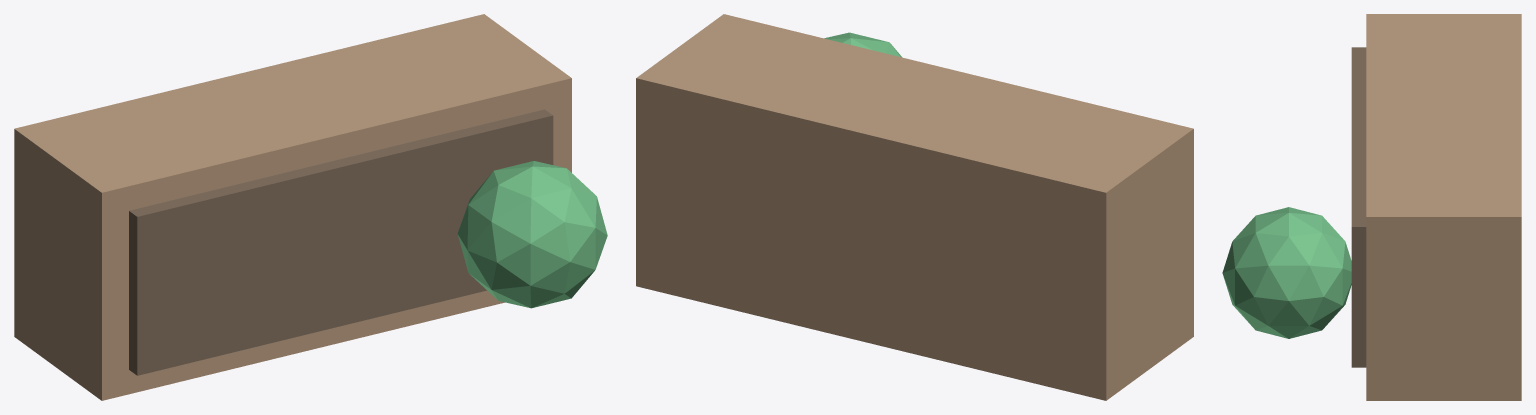
Rendered from env_street_planter.glb.
The picture shows the model from 3 angles, left to right: view 1: azimuth 30°, elevation 25°; view 2: azimuth 150°, elevation 25°; view 3: azimuth 270°, elevation 25°; orthographic projection. The views are drawn at different scales.
Visible parts, largest first — view 1: planter_box, soil, plant; view 2: planter_box, plant; view 3: planter_box, plant, soil.
Part boxes in pixels (x1,y1,x2,y2): planter_box: (14,14,571,400); soil: (129,109,553,375); plant: (457,161,607,308); planter_box: (636,14,1193,400); plant: (824,32,902,57); planter_box: (1366,14,1521,400); plant: (1222,207,1351,338); soil: (1351,47,1366,367).
Bounding box in the file's own units: 1.3 × 0.55 × 0.81.
